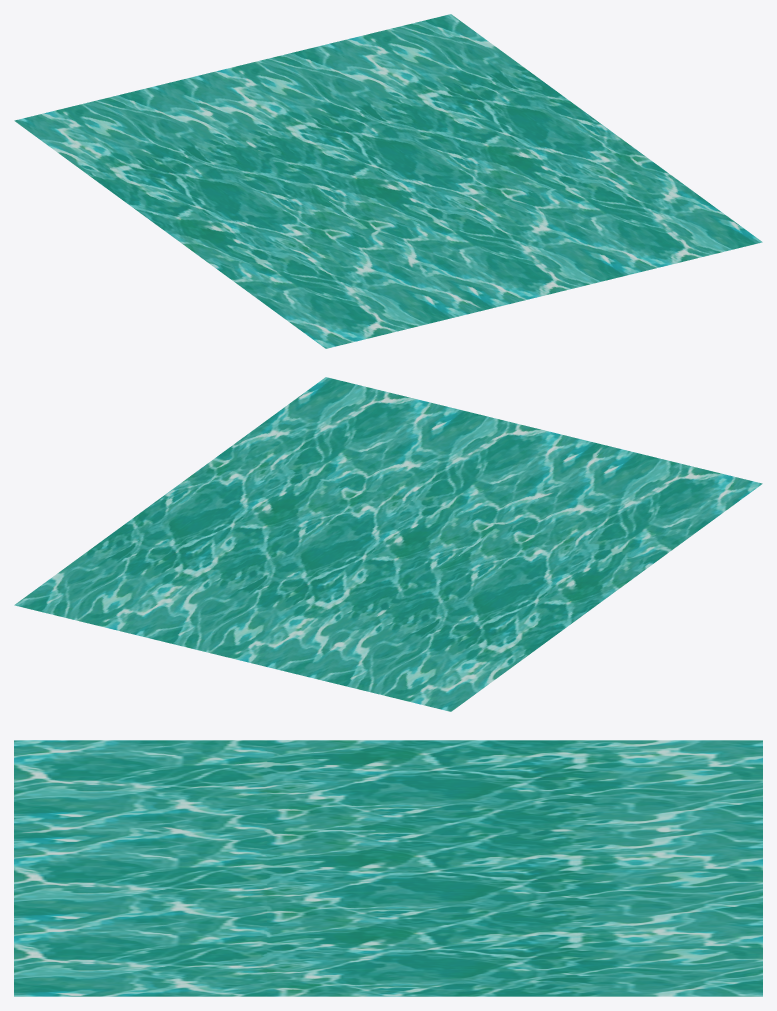
3 renders of one model, top to bottom at view 1: azimuth 30°, elevation 25°; view 2: azimuth 150°, elevation 25°; view 3: azimuth 270°, elevation 25°, orthographic. The views are drawn at different scales.
Visible parts, largest first — view 1: Plane__1_; view 2: Plane__1_; view 3: Plane__1_.
Boxes of the visible parts, box(x1,y1,x2,y2) form: Plane__1_: box(14, 14, 762, 348); Plane__1_: box(14, 377, 762, 711); Plane__1_: box(14, 740, 762, 996).
Bounding box in the file's own units: 9304 × 0.00187 × 11497.
